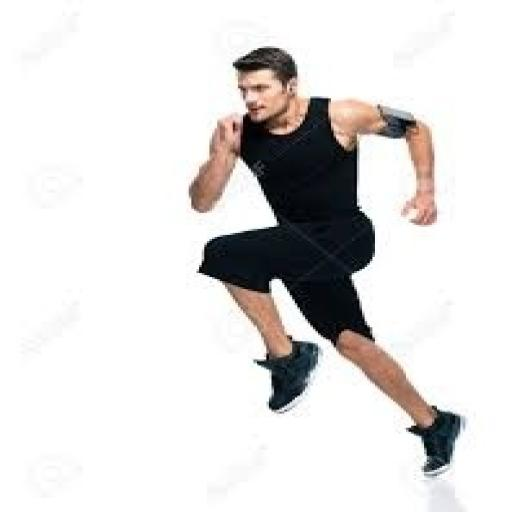running: (184, 44, 470, 480)
